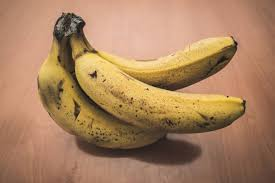banana: (29, 10, 248, 155)
